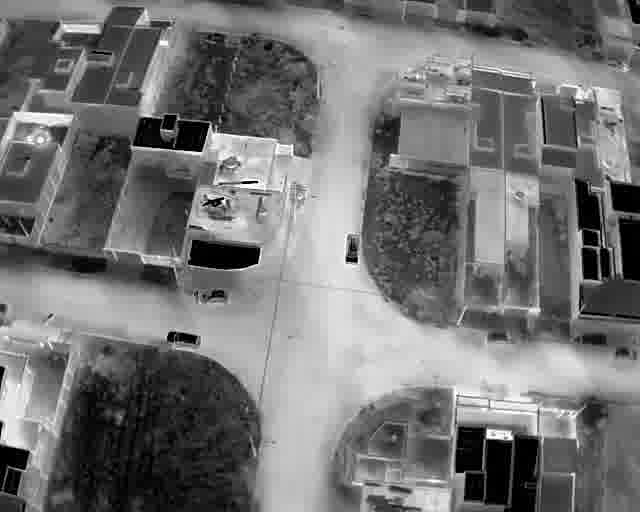car: (166, 330, 201, 350), (343, 232, 362, 264), (200, 288, 230, 305), (486, 329, 519, 343), (613, 347, 640, 360)
motorcycle: (40, 312, 56, 325)
